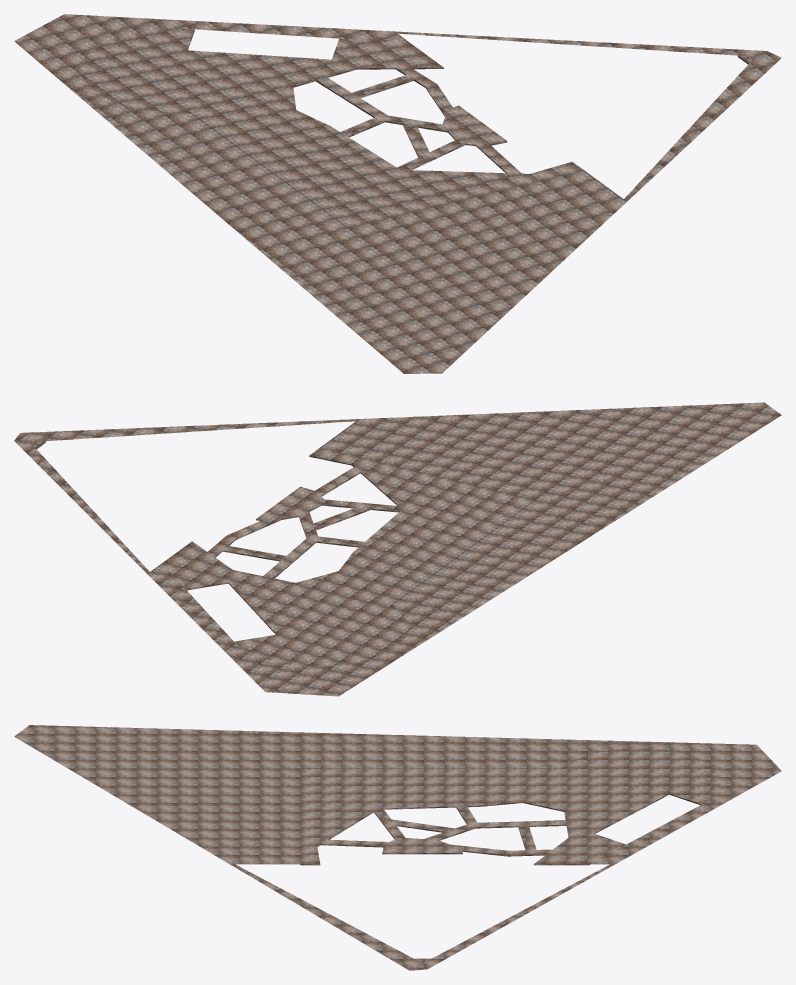
File: sylvan_ground.fbx
The picture shows the model from 3 angles, top to bottom: view 1: azimuth 30°, elevation 25°; view 2: azimuth 150°, elevation 25°; view 3: azimuth 270°, elevation 25°; orthographic projection. The views are drawn at different scales.
Parts seen in each view (by area): view 1: Surface [124216], Floor Floor 200 Glass [145213]; view 2: Surface [124216], Floor Floor 200 Glass [145213]; view 3: Surface [124216], Floor Floor 200 Glass [145213].
Boxes of the visible parts, left/top/right/bottom form: Surface [124216]: left=14, top=14, right=781, bottom=373; Floor Floor 200 Glass [145213]: left=81, top=29, right=754, bottom=227; Surface [124216]: left=14, top=402, right=781, bottom=696; Floor Floor 200 Glass [145213]: left=30, top=441, right=534, bottom=665; Surface [124216]: left=14, top=725, right=781, bottom=970; Floor Floor 200 Glass [145213]: left=300, top=748, right=719, bottom=963.
Bounding box in the file's own units: 86474 × 114158 × 200.
1 material, 1 textured.
